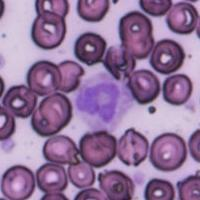N: (72, 73, 136, 132)
